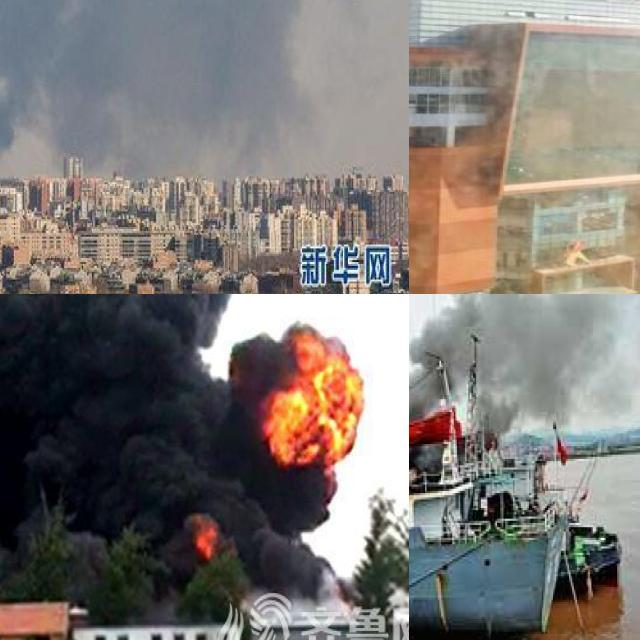fire: (255, 330, 362, 466), (193, 519, 218, 557)
smoke: (0, 294, 349, 600), (0, 0, 409, 182), (409, 294, 640, 427)
